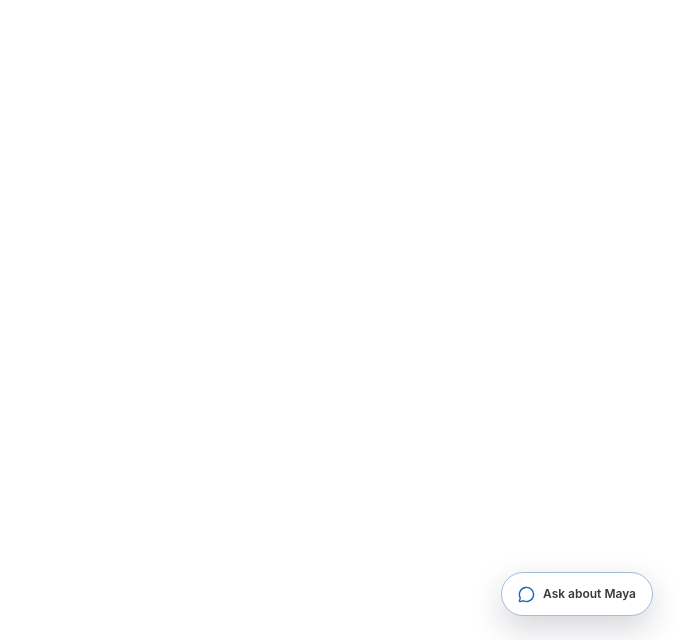
Test case: PersonChatDock › opens from the fixed launcher and persists a sourced response
Later steps or results of the test are not shown.
Step 1. Click the button with aria-label "Ask about Maya" → click(577, 594), box [501,572,653,616]
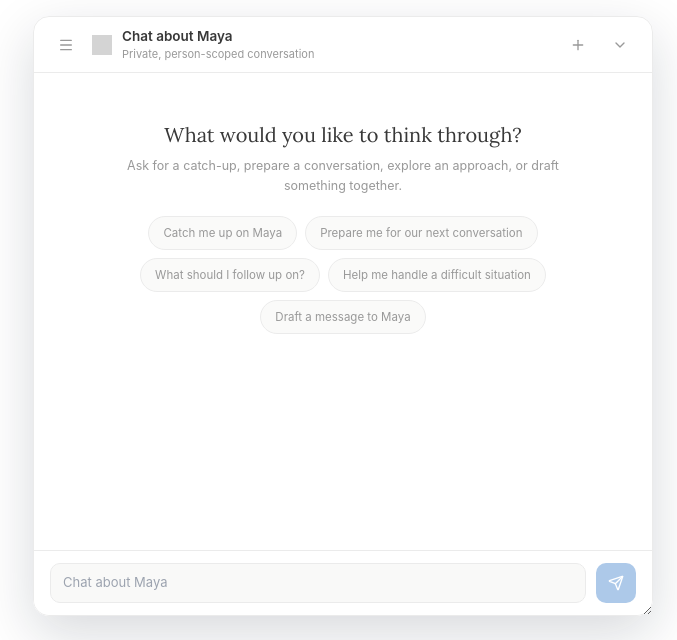
Check: the text box with placeholder "Chat about Maya" is shown, box [50,563,586,603]
Check: the text "What would you like to think through?" is shown, box [164,122,522,147]
Step 2. Click the button "Catch me up on Maya" → click(223, 233), box [148,216,297,250]
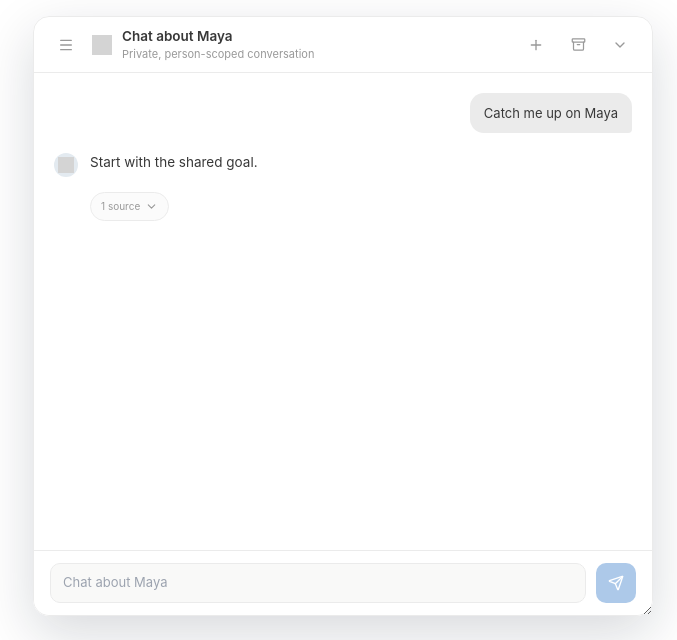
Check: the text "Start with the shared goal." is shown, box [90,154,258,170]
Check: the text "1 source" is shown, box [101,198,140,215]
